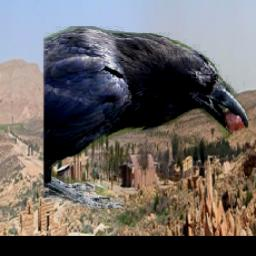Crow: (43, 26, 248, 209)
